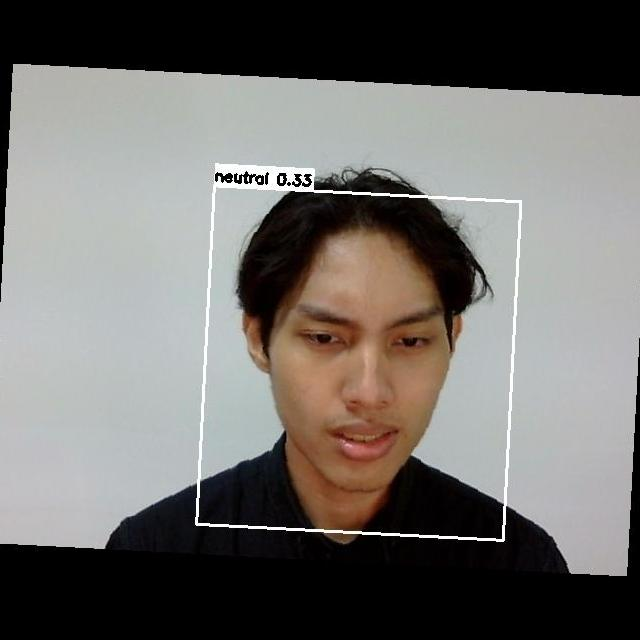Angry: (256, 274, 477, 473)
